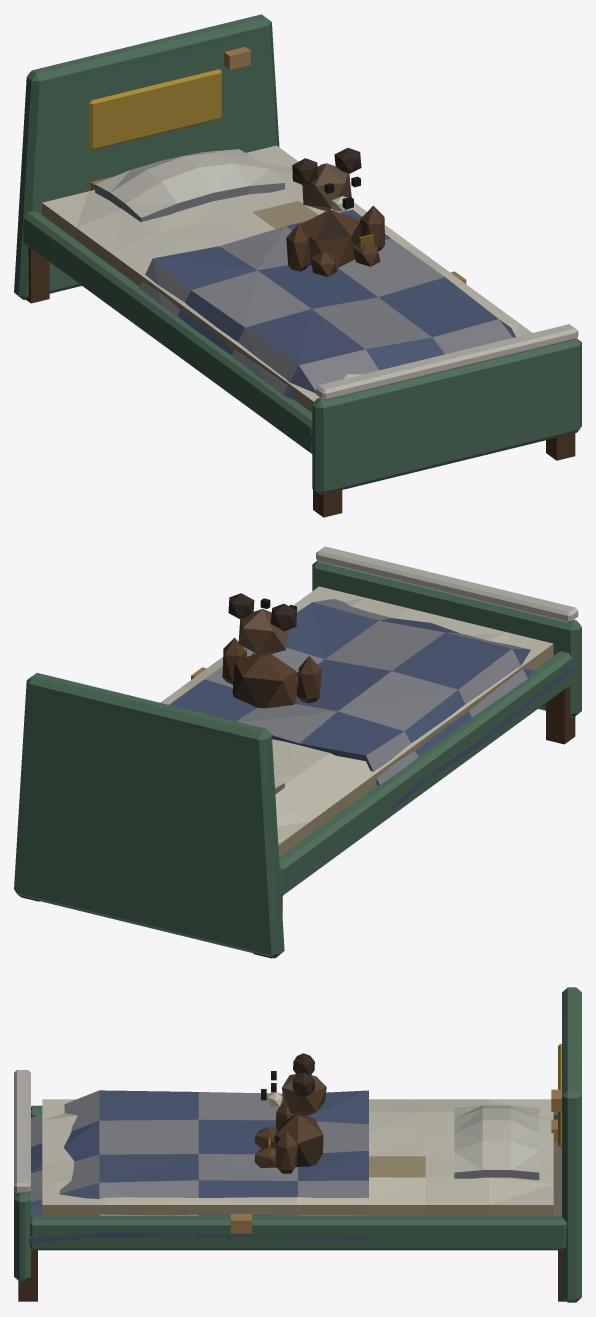
Rendered from furn_bed_single.fbx.
3 renders of one model, top to bottom at view 1: azimuth 30°, elevation 25°; view 2: azimuth 150°, elevation 25°; view 3: azimuth 270°, elevation 25°, orthographic. The views are drawn at different scales.
Parts seen in each view (by area): view 1: furn_bed_single; view 2: furn_bed_single; view 3: furn_bed_single.
Boxes of the visible parts, <box> form: furn_bed_single: <box>14,14,581,517</box>; furn_bed_single: <box>14,546,581,958</box>; furn_bed_single: <box>14,987,581,1302</box>.
Size of the model in its own units: 1 by 0.8 by 2.
